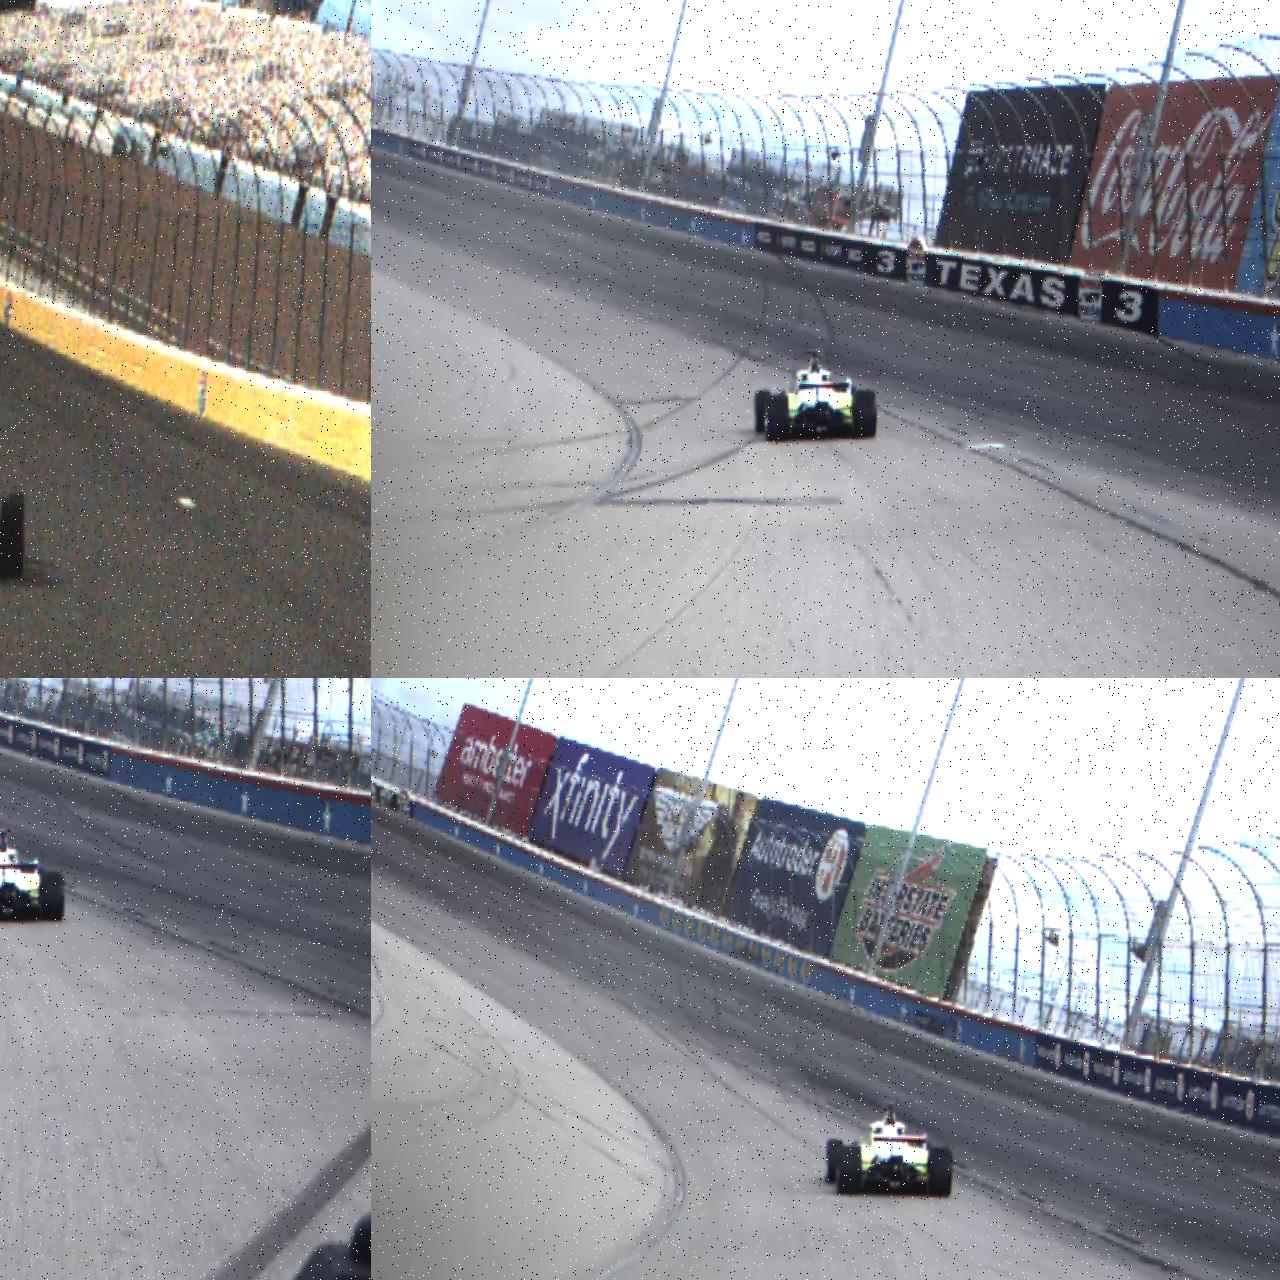AV: (823, 1095, 956, 1200), (751, 345, 880, 448), (0, 824, 67, 928), (0, 418, 29, 579)
Wheel: (0, 497, 25, 579), (38, 871, 66, 922), (836, 1145, 864, 1194), (852, 389, 878, 440), (928, 1146, 953, 1198), (764, 394, 790, 442), (824, 1138, 844, 1185), (753, 389, 771, 436)
